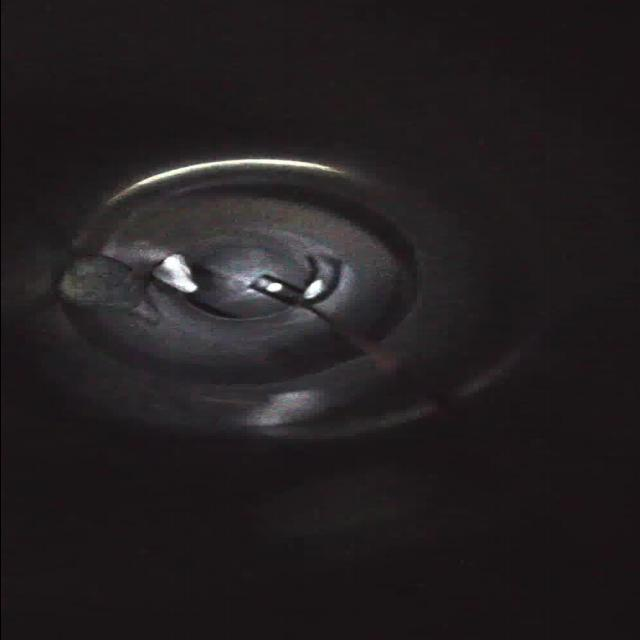impurity: (53, 252, 141, 312), (148, 252, 200, 295)
